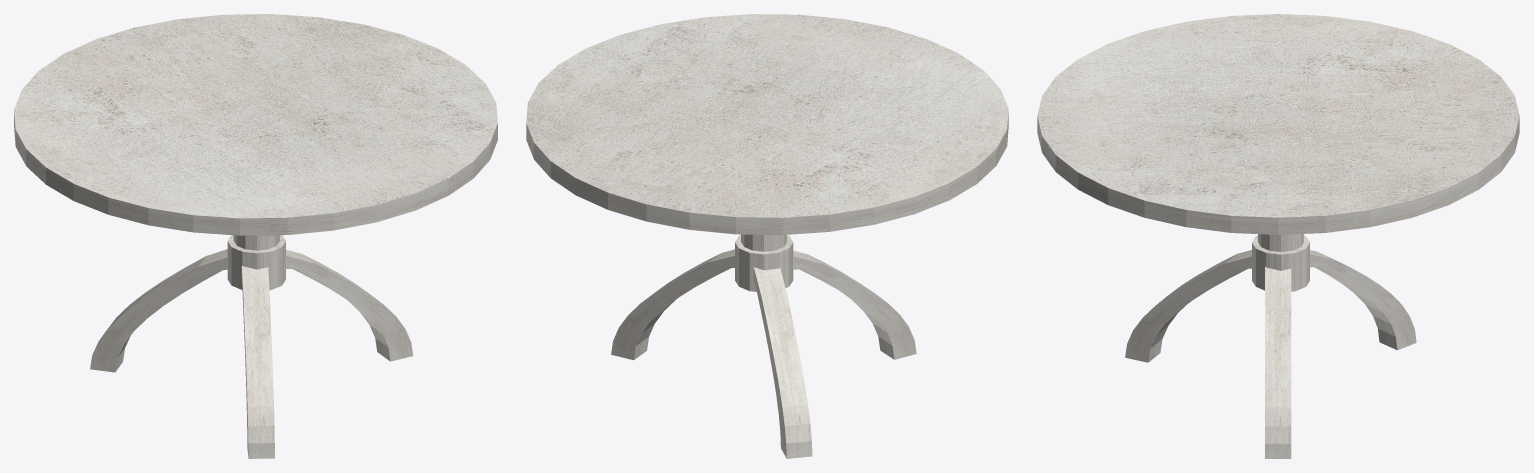
File: tableround 1.glb
3 views of the same model, side by side, from view 1: azimuth 30°, elevation 25°; view 2: azimuth 150°, elevation 25°; view 3: azimuth 270°, elevation 25° (orthographic).
Parts seen in each view (by area): view 1: ROUNDTABLEMAIN; view 2: ROUNDTABLEMAIN; view 3: ROUNDTABLEMAIN.
Part boxes in pixels (bbox=[...]): ROUNDTABLEMAIN: bbox=[14, 14, 497, 458]; ROUNDTABLEMAIN: bbox=[526, 14, 1008, 458]; ROUNDTABLEMAIN: bbox=[1037, 14, 1519, 458].
Size of the model in its own units: 2.55 by 1.58 by 2.55.
Materials: 1 (1 with a texture image).
